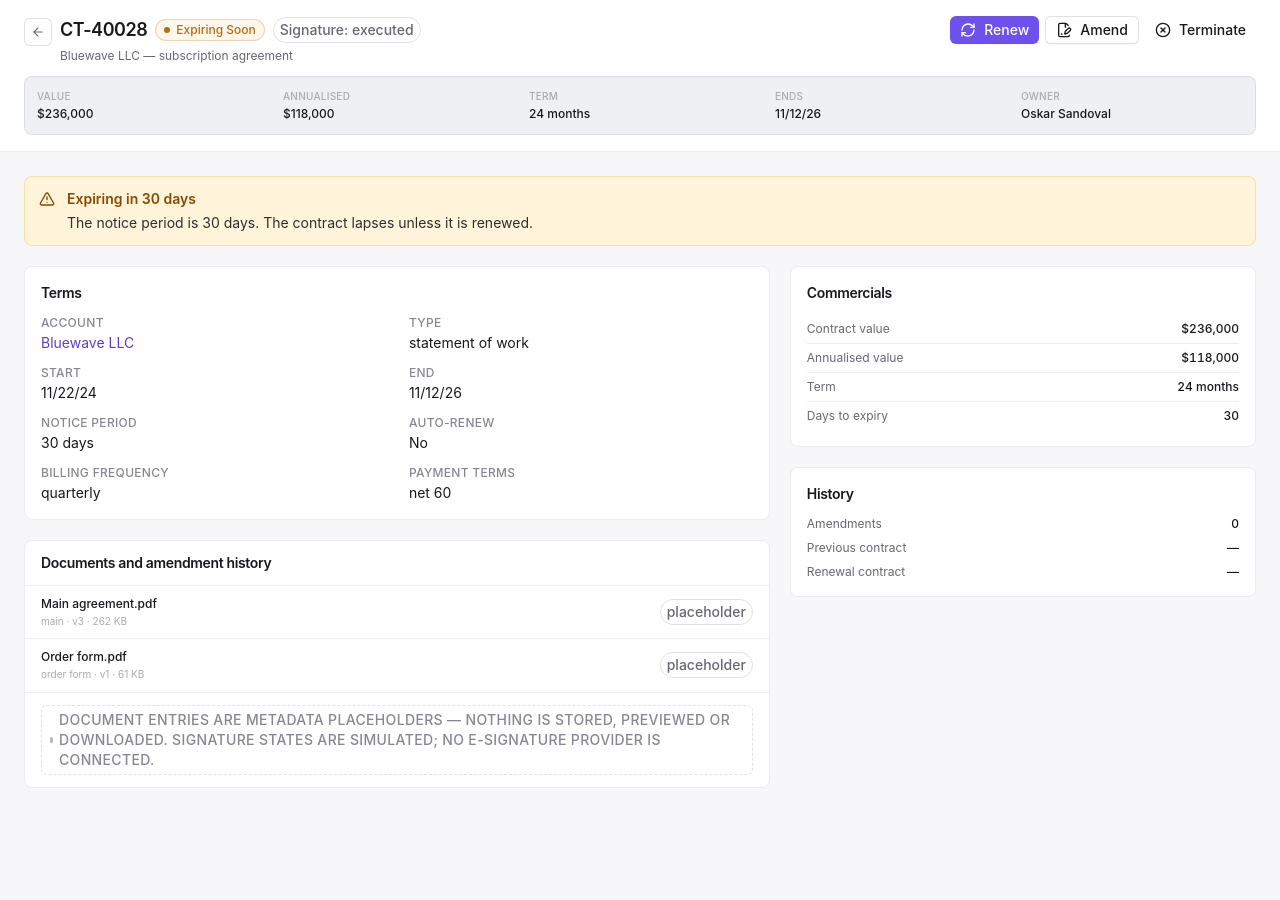
ContractDetail lifecycle writes › records a termination reason and removes the lifecycle actions
Click the button "Terminate" at (1200, 30), box top-left (1145, 16), bottom-right (1256, 44)
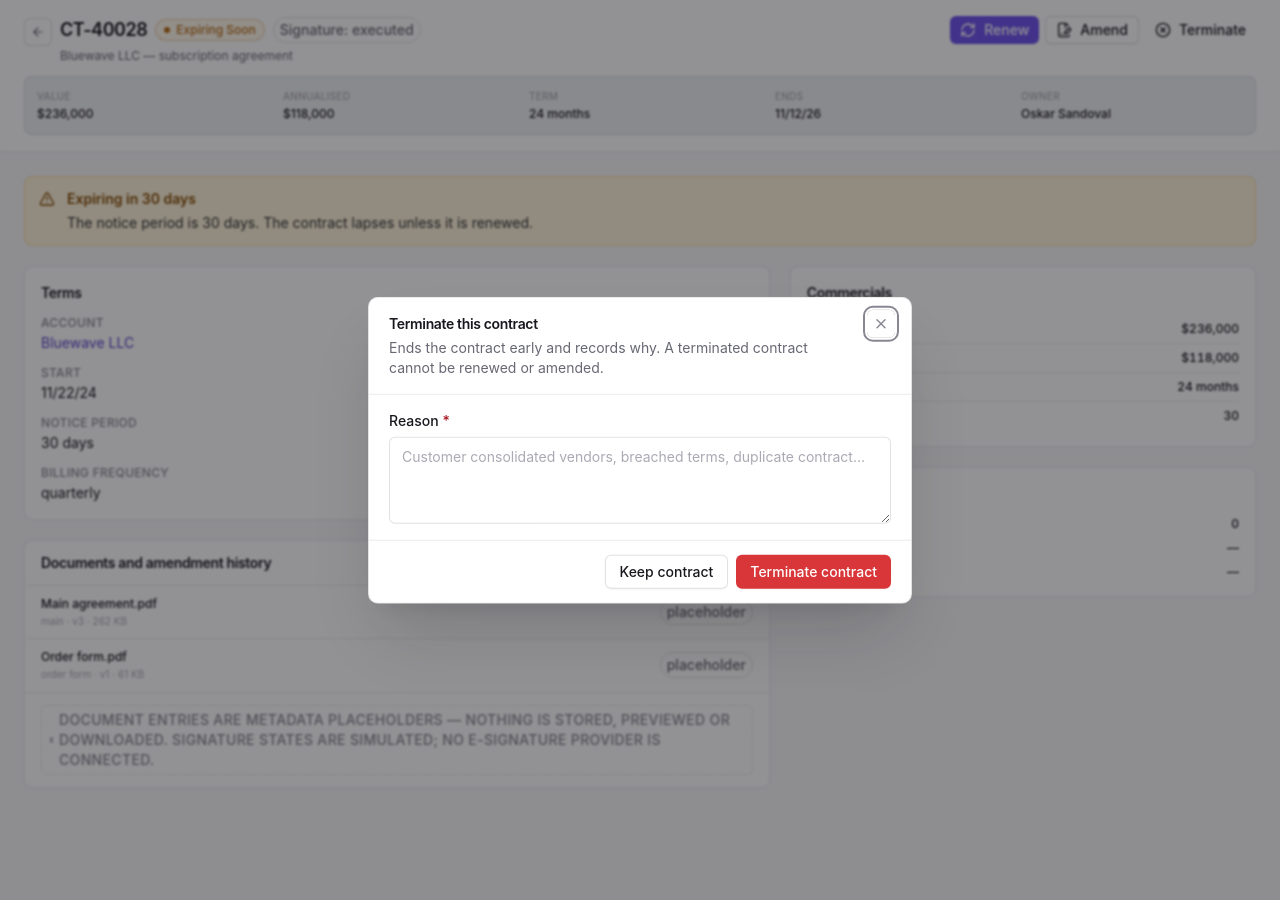
Type "Customer consolidated vendors." into the text box labelled "Reason *" at (640, 480), box top-left (389, 437), bottom-right (891, 523)
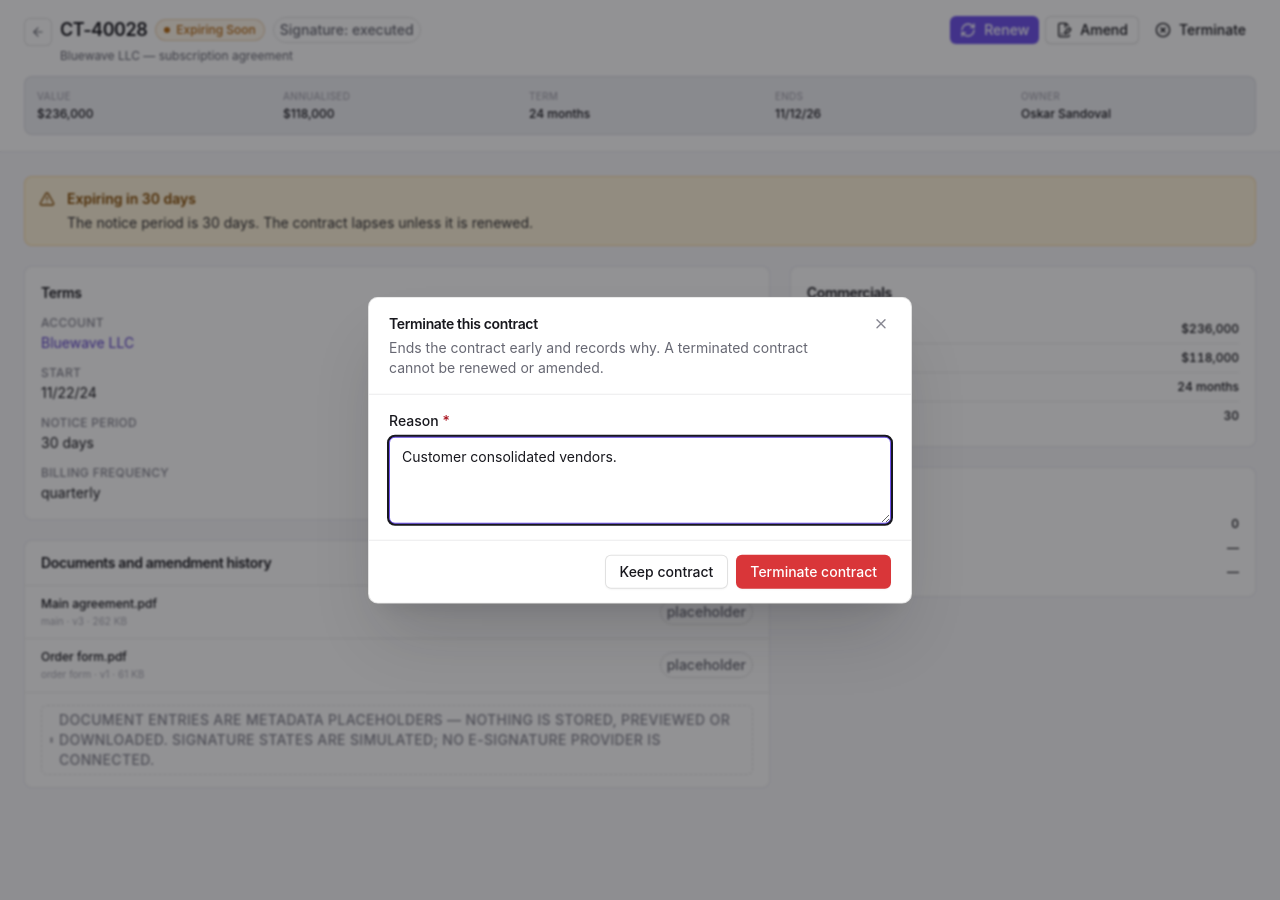
Click the button "Terminate contract" at (814, 571), box top-left (736, 554), bottom-right (891, 588)
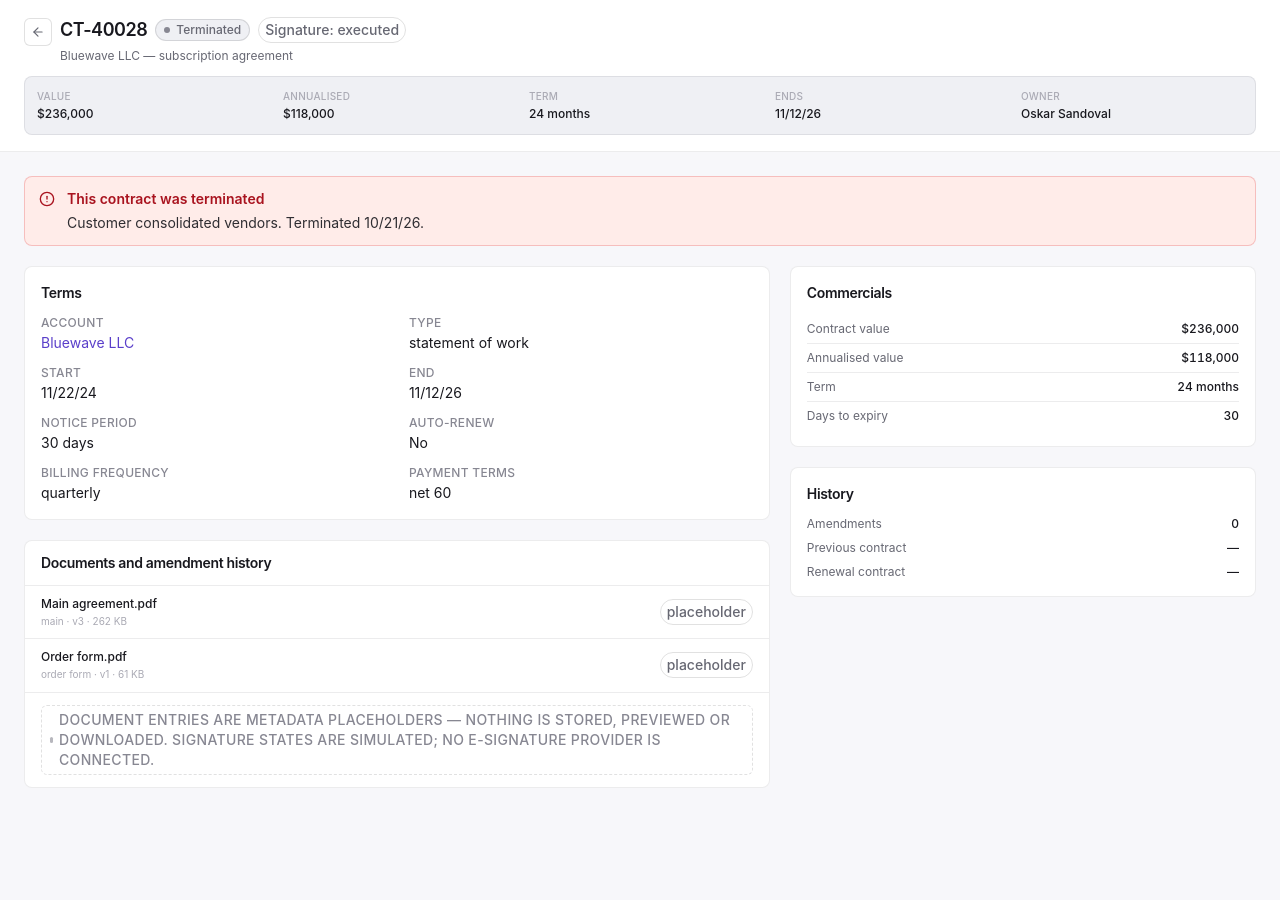
Expected: the text "This contract was terminated" is shown, top-left (67, 190), bottom-right (264, 206)
Expected: the text "Customer consolidated vendors. Terminated 10/21/26." is shown, top-left (67, 214), bottom-right (424, 230)
